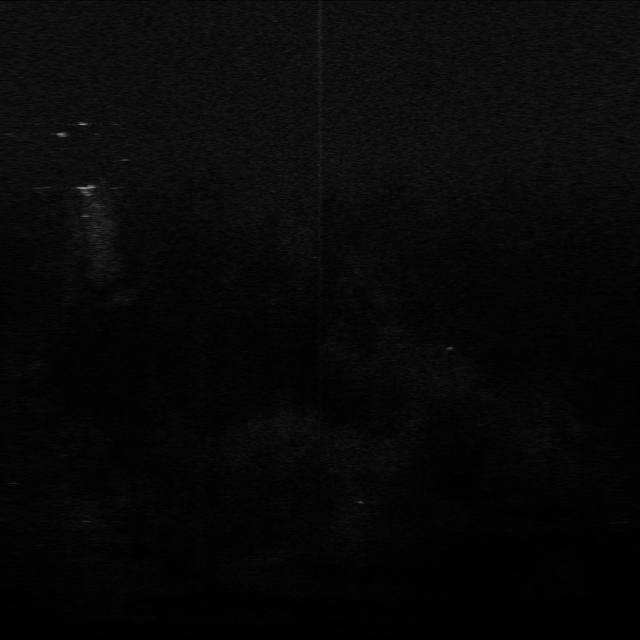rov: (70, 179, 100, 201)
